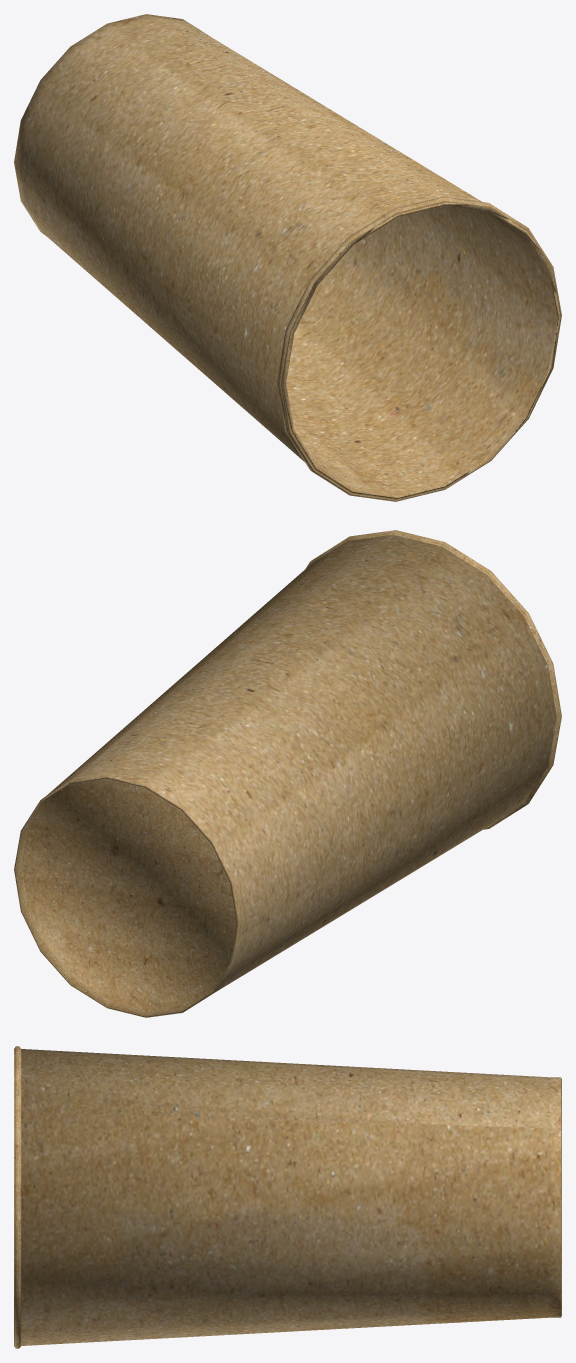
The picture shows the model from 3 angles, top to bottom: view 1: azimuth 30°, elevation 25°; view 2: azimuth 150°, elevation 25°; view 3: azimuth 270°, elevation 25°; orthographic projection. The views are drawn at different scales.
Bounding box in the file's own units: 0.5185 × 0.5107 × 0.9368.
